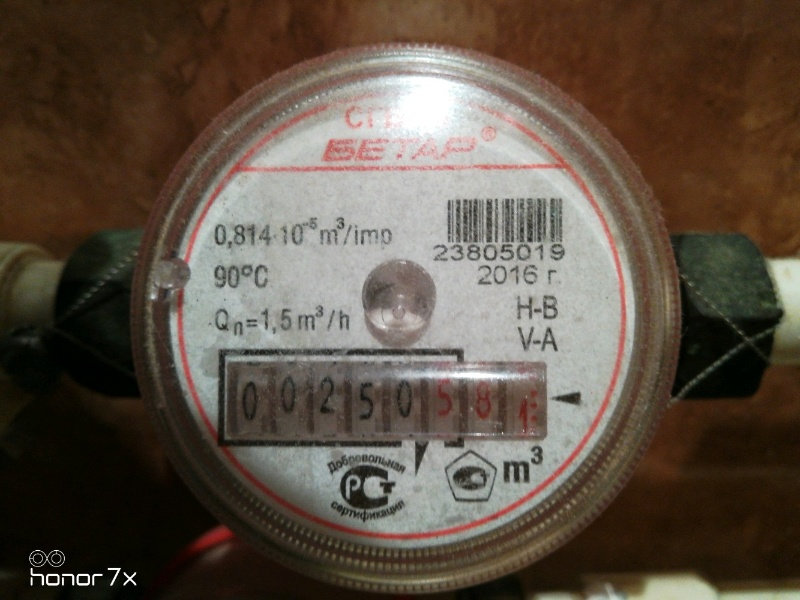meter: (205, 345, 559, 454)
